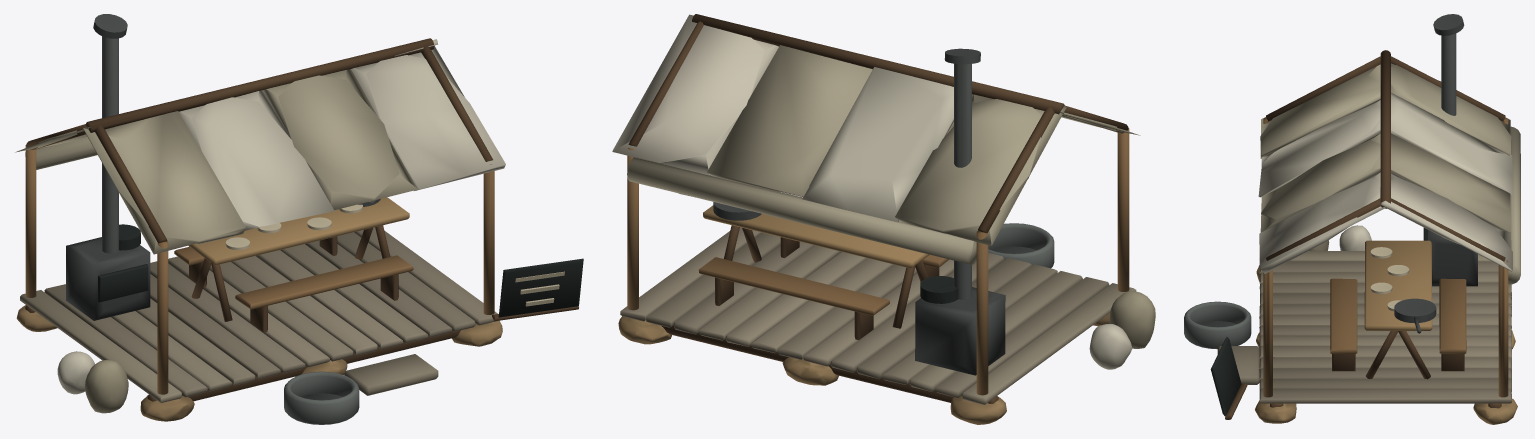
The model's file is crew_cookshack_a_lod1.glb.
3 renders of one model, left to right at view 1: azimuth 30°, elevation 25°; view 2: azimuth 150°, elevation 25°; view 3: azimuth 270°, elevation 25°, orthographic. The views are drawn at different scales.
Visible parts, largest first — view 1: Surface.001; view 2: Surface.001; view 3: Surface.001.
Boxes of the visible parts, <box> form: Surface.001: <box>15,14,583,424</box>; Surface.001: <box>612,14,1155,424</box>; Surface.001: <box>1184,14,1520,424</box>.
Bounding box in the file's own units: 5.49 × 3.75 × 4.01.
